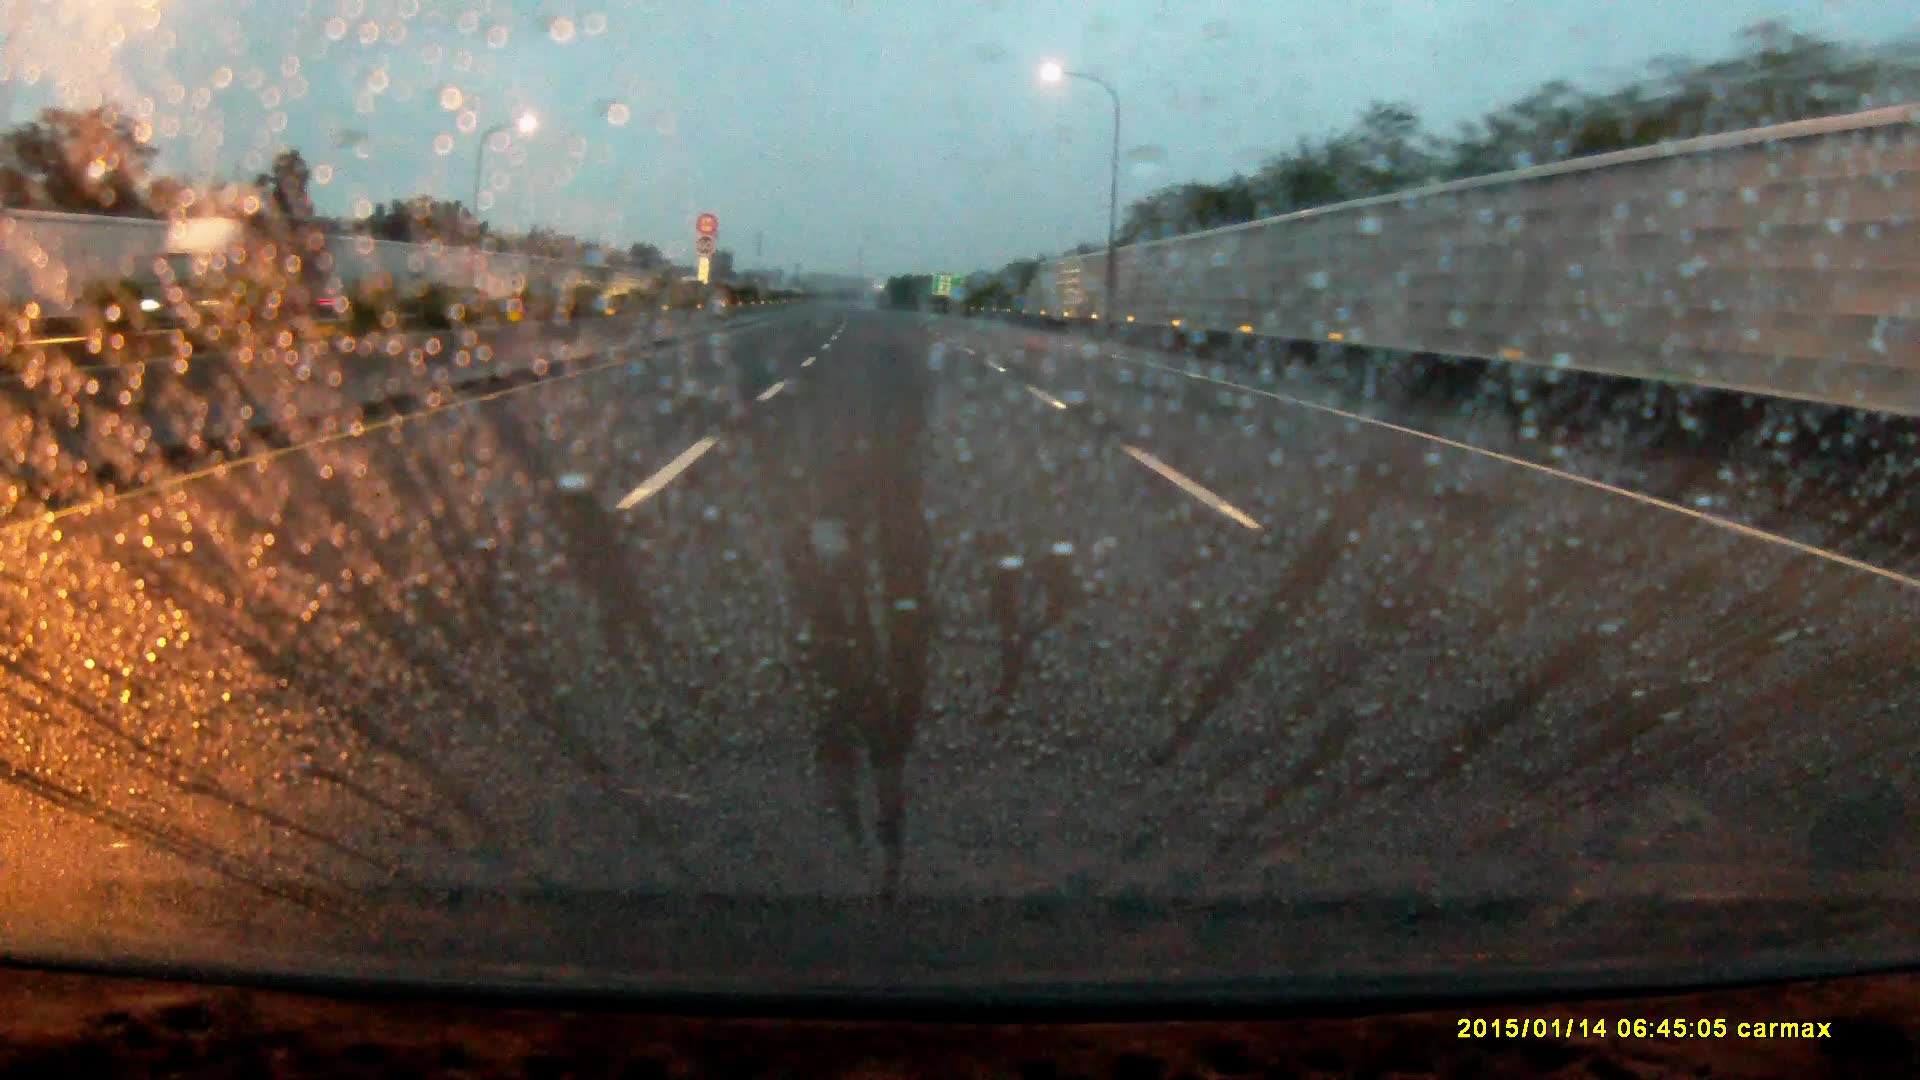vehicle: (138, 212, 338, 331)
